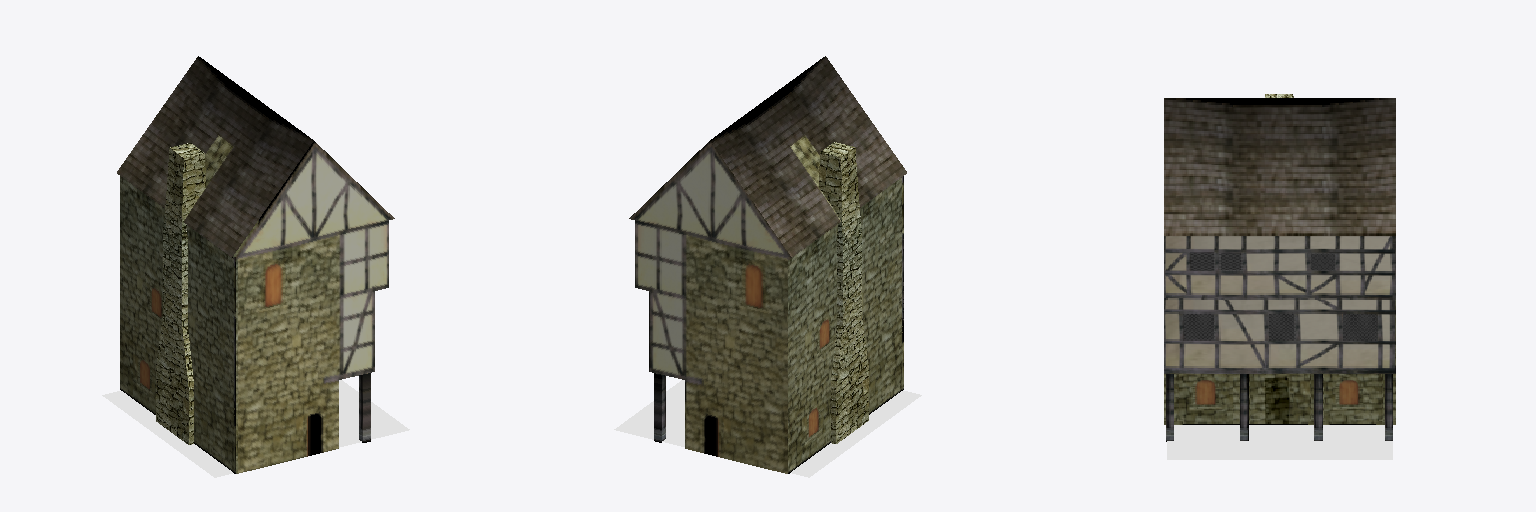
3 renders of one model, left to right at view 1: azimuth 30°, elevation 25°; view 2: azimuth 150°, elevation 25°; view 3: azimuth 270°, elevation 25°, orthographic.
Parts seen in each view (by area): view 1: Mesh40, Mesh39, Box540, Plane38, Box835; view 2: Mesh37, Mesh39, Box540, Plane38, Box836; view 3: Mesh38, Plane38, Box838, Box837, Box835, Box836.
Boxes of the visible parts, <box> form: Mesh40: <box>232,141,394,473</box>; Mesh39: <box>117,56,313,473</box>; Box540: <box>156,143,205,444</box>; Plane38: <box>102,380,409,477</box>; Box835: <box>359,373,370,442</box>; Mesh37: <box>629,141,791,473</box>; Mesh39: <box>710,56,906,473</box>; Box540: <box>819,142,868,443</box>; Plane38: <box>614,380,921,477</box>; Box836: <box>654,373,665,442</box>; Mesh38: <box>1164,98,1395,424</box>; Plane38: <box>1167,425,1392,459</box>; Box838: <box>1314,374,1322,440</box>; Box837: <box>1240,374,1248,440</box>; Box835: <box>1166,374,1173,441</box>; Box836: <box>1385,374,1392,440</box>.
Size of the model in its own units: 76 by 117 by 77.9.
3 materials, 2 textured.